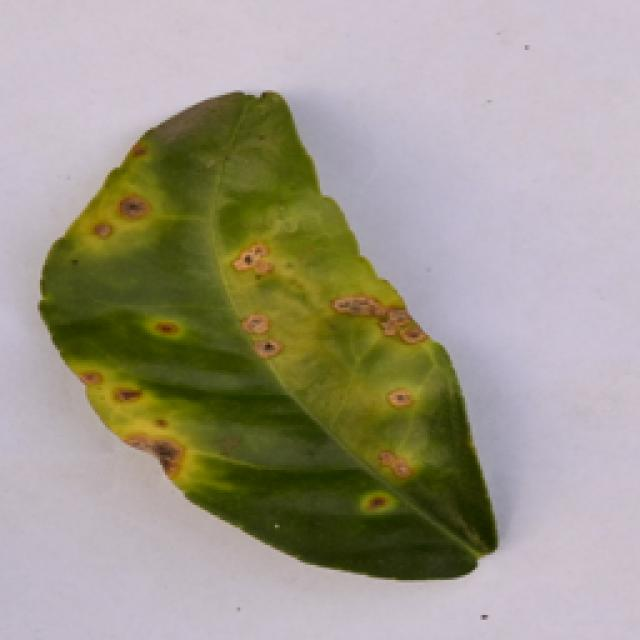canker: (46, 135, 447, 567)
